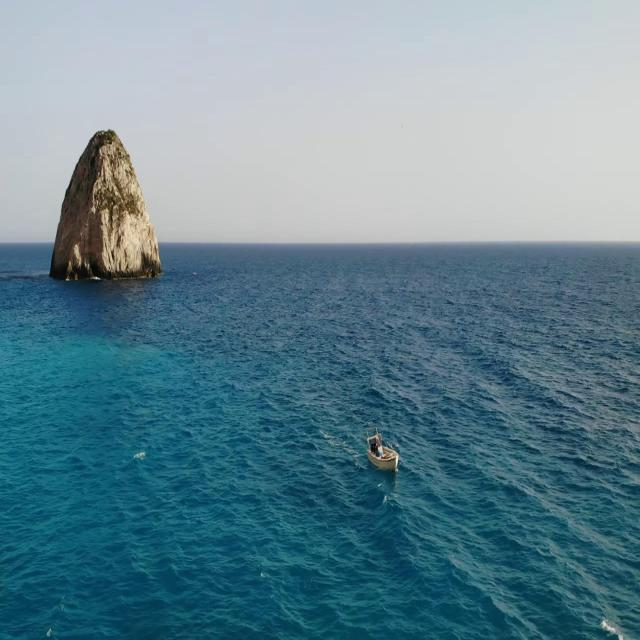boat: (366, 423, 400, 472)
